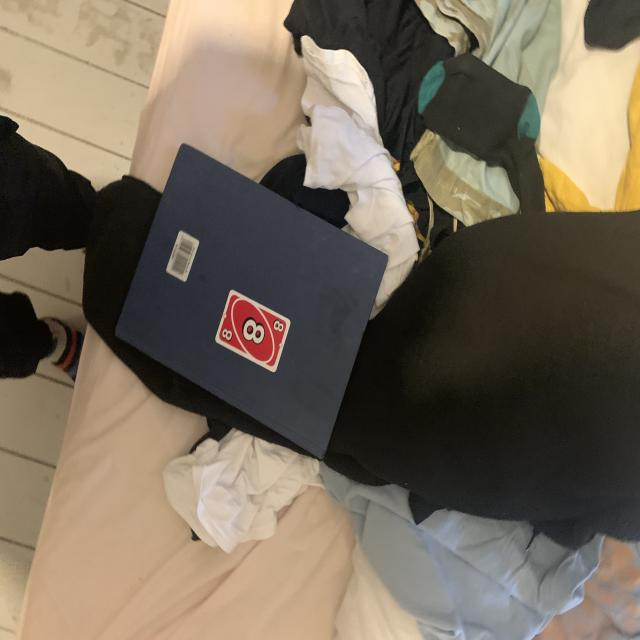lred-8: (220, 327, 234, 343)
